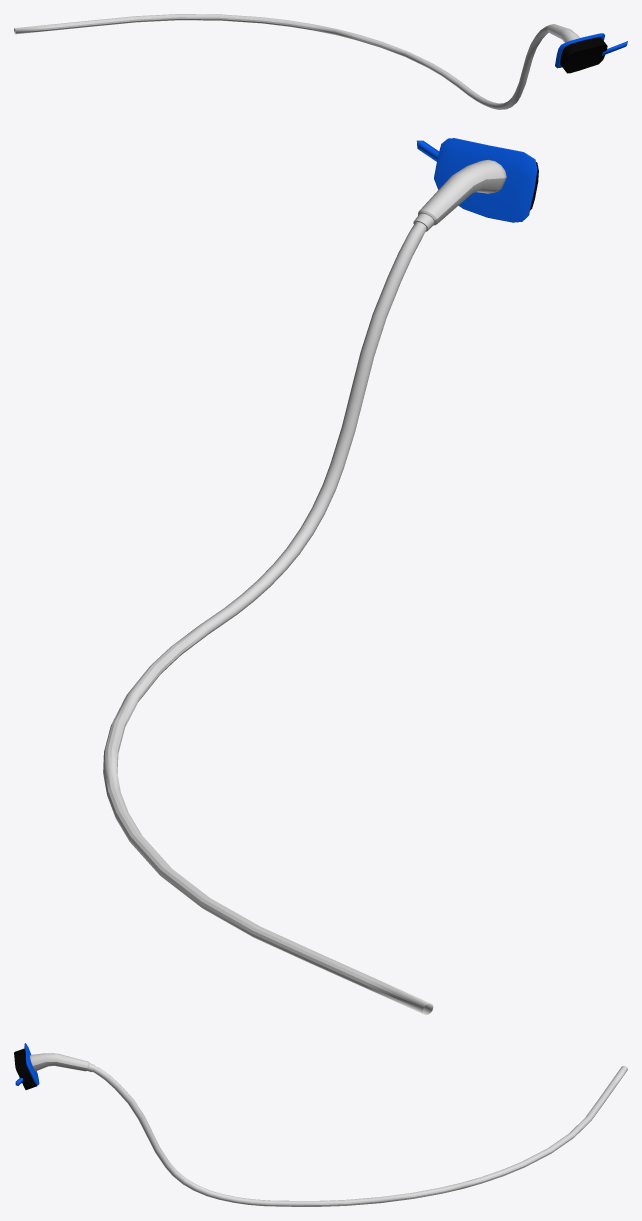
Rendered from leftFrontCharger.fbx.
3 views of the same model, one above another, from view 1: azimuth 30°, elevation 25°; view 2: azimuth 150°, elevation 25°; view 3: azimuth 270°, elevation 25° (orthographic). The views are drawn at different scales.
Parts seen in each view (by area): view 1: chondianqiang, manfanshe, gaiban; view 2: chondianqiang, gaiban; view 3: chondianqiang, manfanshe, gaiban.
Part boxes in pixels (x1,y1,x2,y2): chondianqiang: (14, 14, 579, 109); manfanshe: (560, 37, 607, 73); gaiban: (555, 33, 627, 68); chondianqiang: (103, 159, 506, 1014); gaiban: (417, 138, 537, 222); chondianqiang: (29, 1053, 627, 1206); manfanshe: (14, 1048, 37, 1089); gaiban: (15, 1043, 39, 1085).
Size of the model in its own units: 196 by 91.05 by 337.
